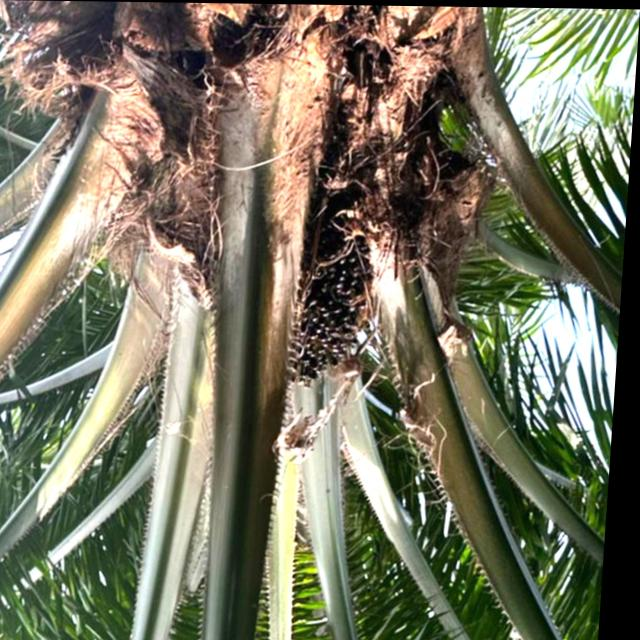almost: (273, 195, 394, 400)
